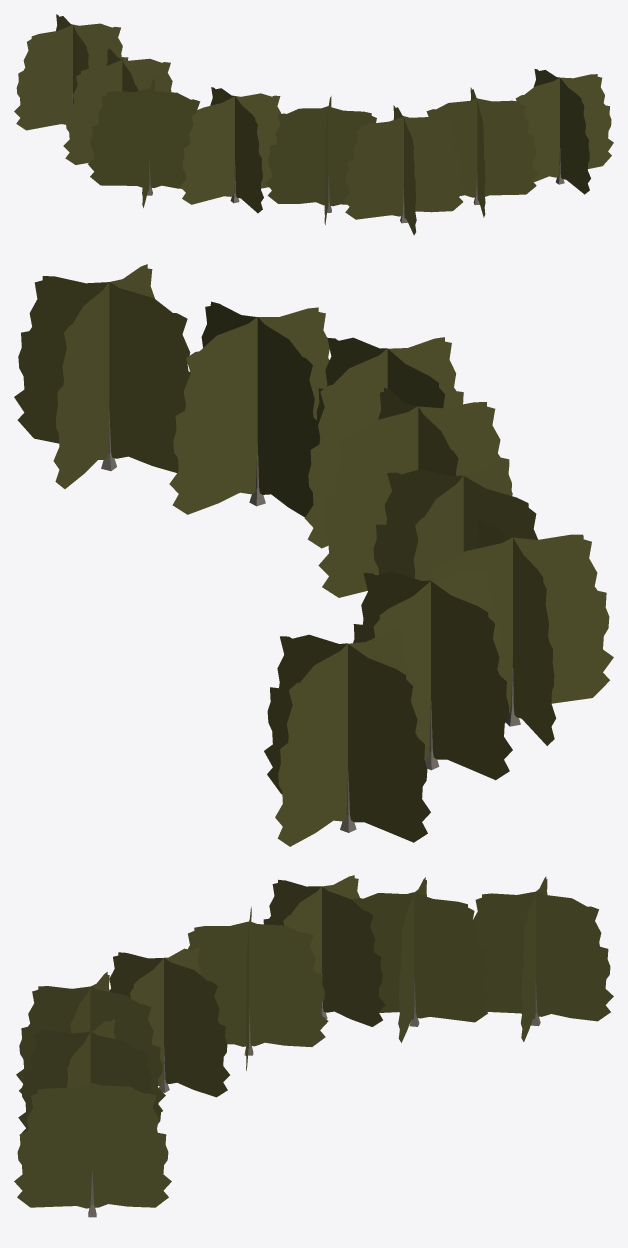
File: Tree14.fbx
3 views of the same model, one above another, from view 1: azimuth 30°, elevation 25°; view 2: azimuth 150°, elevation 25°; view 3: azimuth 270°, elevation 25° (orthographic). The views are drawn at different scales.
Parts seen in each view (by area): view 1: Flat_half_tree.014; view 2: Flat_half_tree.014; view 3: Flat_half_tree.014.
Boxes of the visible parts, left/top/right/bottom form: Flat_half_tree.014: left=14, top=14, right=613, bottom=235; Flat_half_tree.014: left=14, top=264, right=613, bottom=846; Flat_half_tree.014: left=14, top=875, right=613, bottom=1217.
Bounding box in the file's own units: 2.77 × 0.6659 × 2.73.
